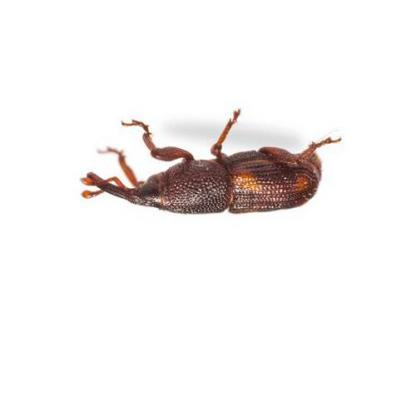rice-bug: (82, 113, 338, 216)
